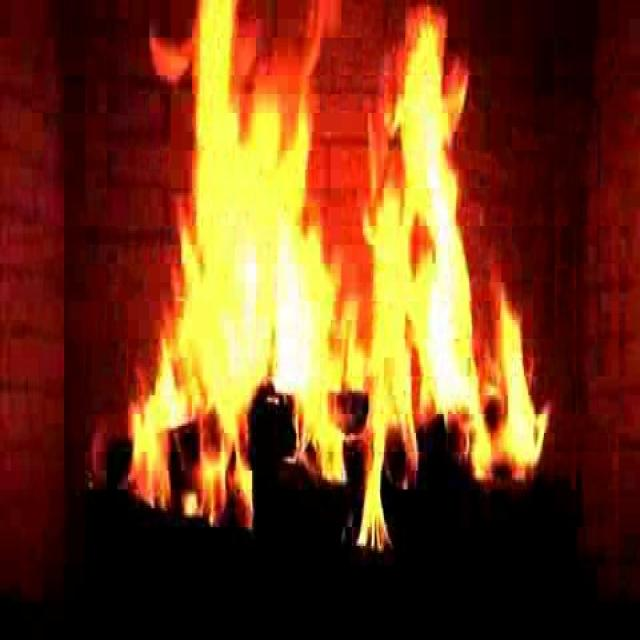fire: (141, 9, 529, 532)
